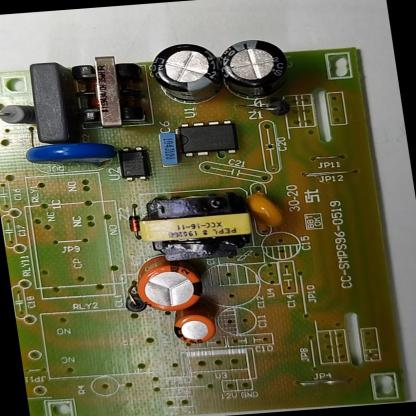Cap1: (128, 251, 211, 319)
Cap2: (156, 306, 230, 353)
Cap3: (142, 32, 228, 119)
Cap4: (212, 28, 302, 112)
MOSFET: (167, 114, 247, 166)
Mov: (12, 136, 128, 185)
Resistor: (0, 98, 38, 131)
Transformer: (117, 180, 272, 276), (51, 51, 168, 147)
